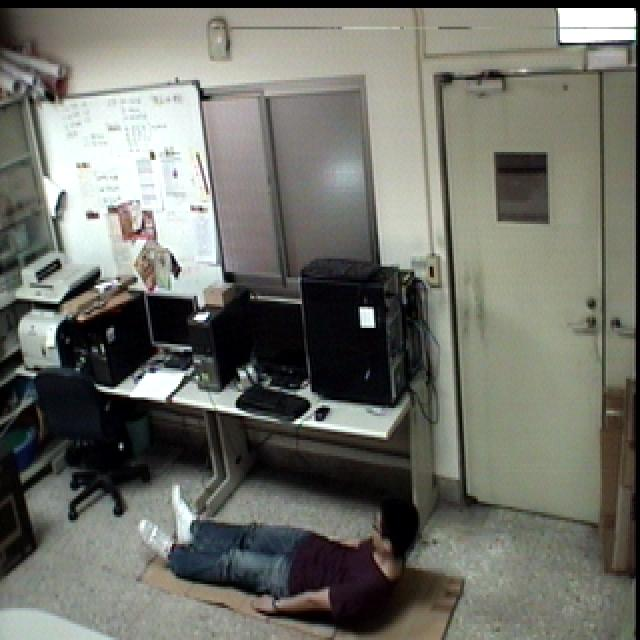lie: (127, 469, 433, 640)
